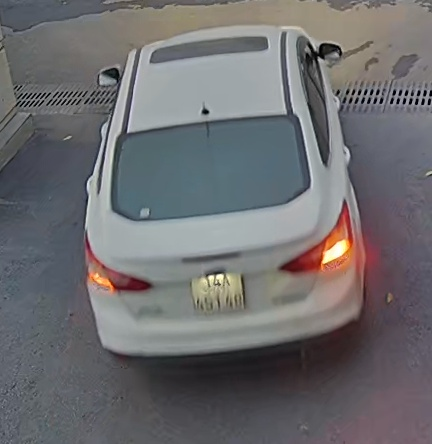vehicle plate: (185, 269, 251, 315)
